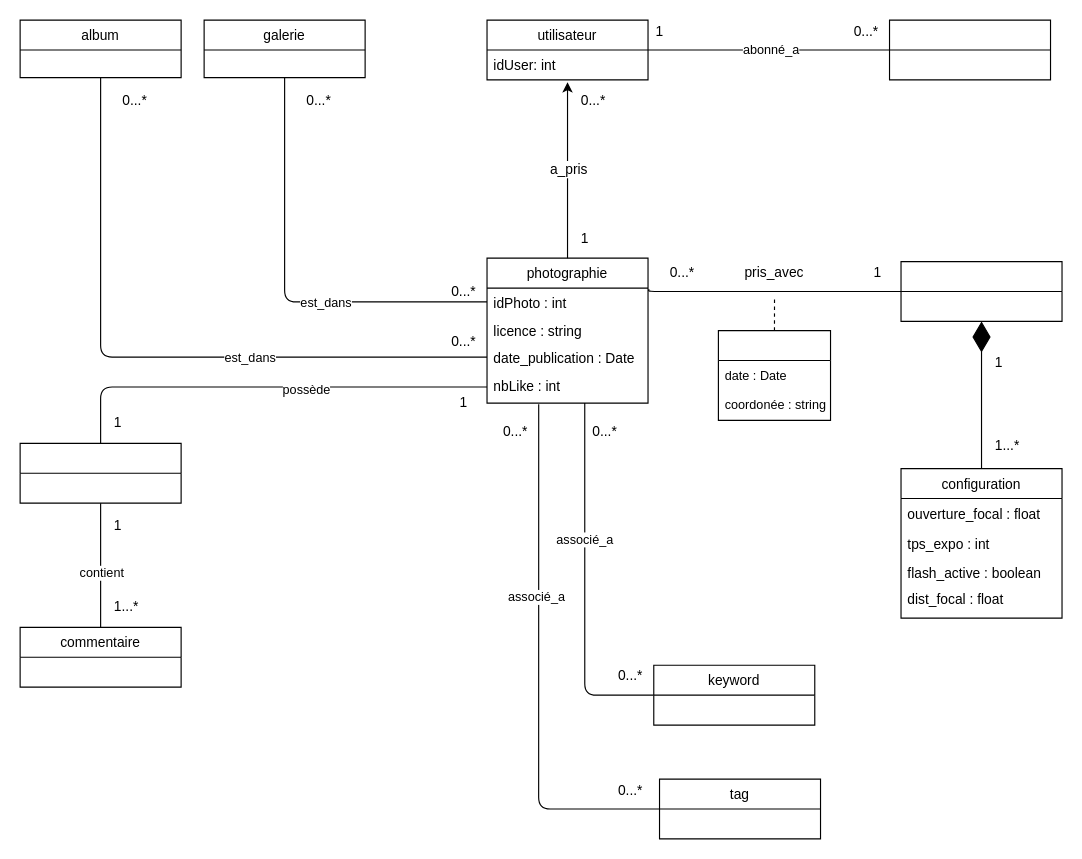
This 1082x859 diagram has some shape labels left out. Here are the shapes that lost their labels. From the top down, the centre of each, then its label:
At pixel 969 49: "abonnement".
At pixel 981 290: "appareil photo".
At pixel 100 472: "discussion".
